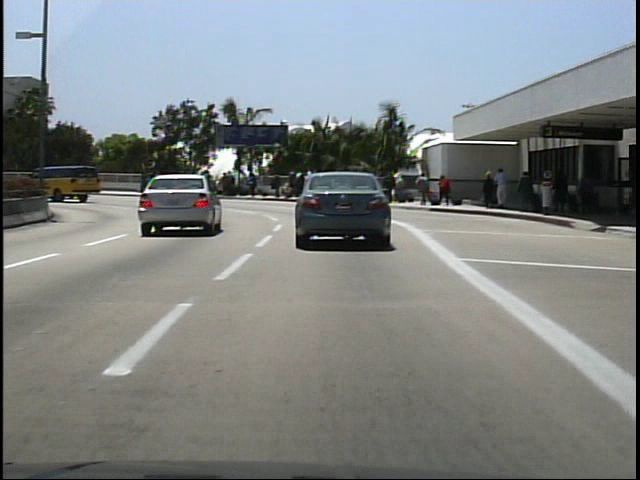person: (578, 163, 601, 218), (552, 165, 572, 216), (516, 167, 537, 215), (492, 164, 512, 213), (437, 170, 456, 209), (415, 170, 434, 208), (483, 169, 500, 210), (385, 171, 398, 206), (86, 164, 101, 194), (137, 169, 153, 194)
